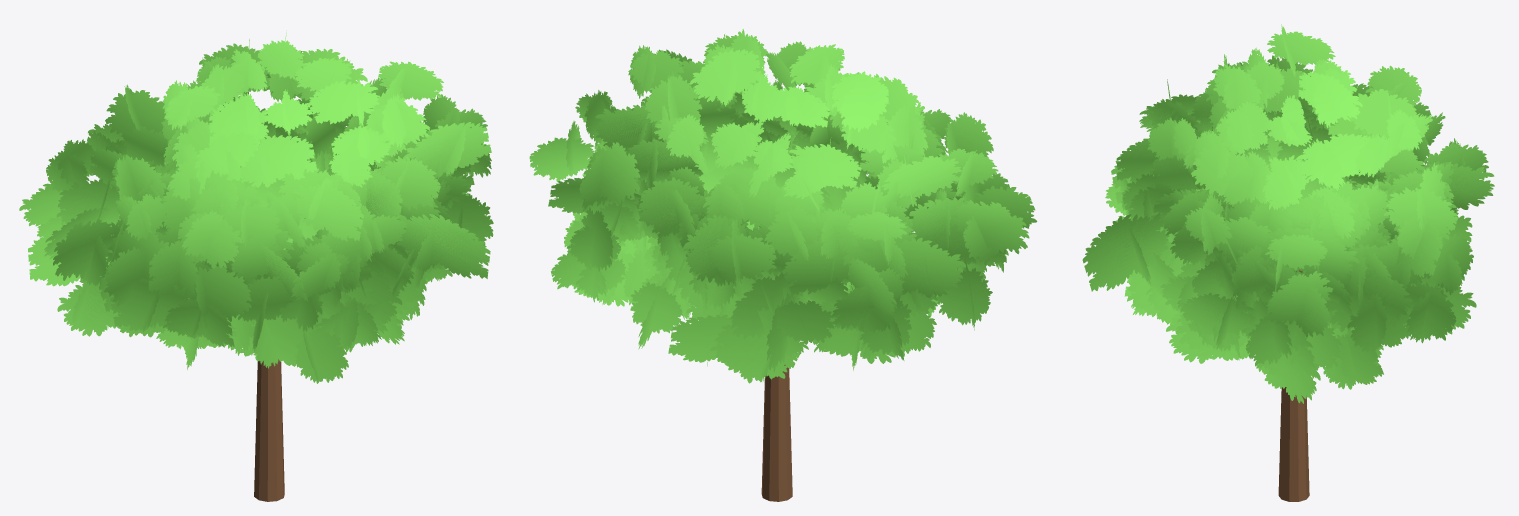
The model's file is tree_foliage_384card_v5.glb.
3 views of the same model, side by side, from view 1: azimuth 30°, elevation 25°; view 2: azimuth 150°, elevation 25°; view 3: azimuth 270°, elevation 25° (orthographic). The views are drawn at different scales.
Visible parts, largest first — view 1: Tree_Foliage_384Cards, Tree_Trunk_Straight; view 2: Tree_Foliage_384Cards, Tree_Trunk_Straight; view 3: Tree_Foliage_384Cards, Tree_Trunk_Straight.
Part boxes in pixels (x1,y1,x2,y2): Tree_Foliage_384Cards: (19,30,493,383); Tree_Trunk_Straight: (254,359,284,501); Tree_Foliage_384Cards: (529,29,1037,383); Tree_Trunk_Straight: (761,365,792,501); Tree_Foliage_384Cards: (1082,24,1494,403); Tree_Trunk_Straight: (1278,270,1309,501).
Size of the model in its own units: 6.51 by 6.01 by 5.26.
2 materials, 1 textured.
